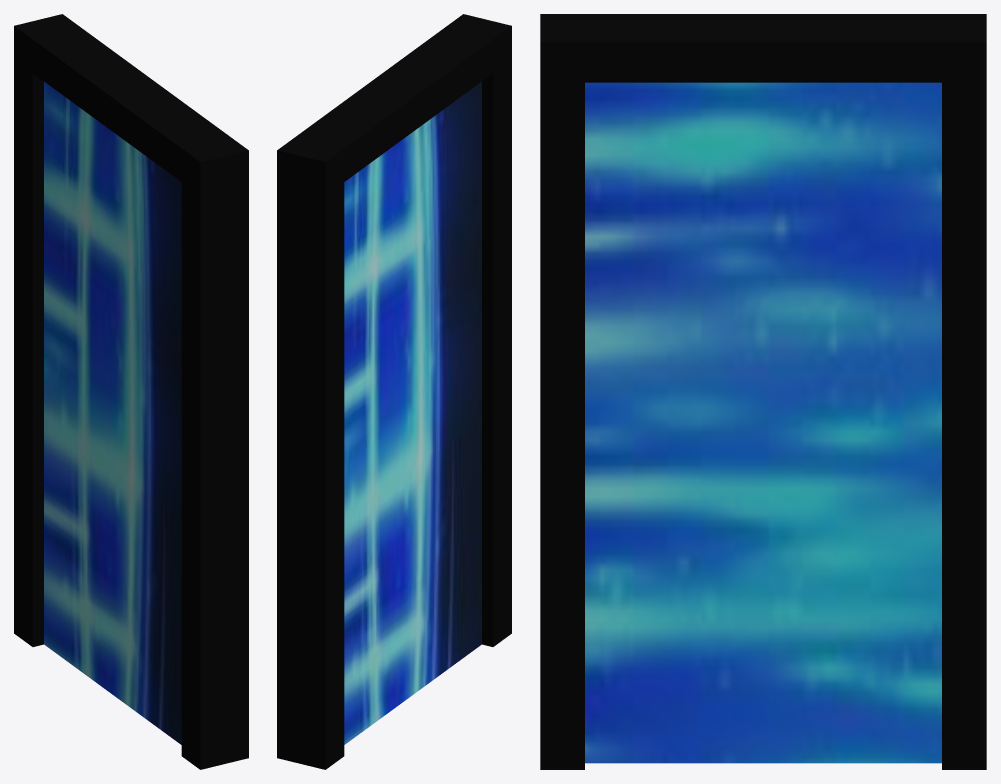
The model's file is TeleportDoor.gltf.
The picture shows the model from 3 angles, left to right: view 1: azimuth 30°, elevation 25°; view 2: azimuth 150°, elevation 25°; view 3: azimuth 270°, elevation 25°; orthographic projection. The views are drawn at different scales.
Visible parts, largest first — view 1: Door, Frame; view 2: Door, Frame; view 3: Door, Frame.
Part boxes in pixels (x1,y1,x2,y2): Door: [44, 81, 181, 744]; Frame: [14, 14, 248, 769]; Door: [344, 81, 481, 744]; Frame: [277, 14, 511, 769]; Door: [585, 82, 941, 763]; Frame: [540, 14, 986, 769].
Bounding box in the file's own units: 0.15 × 1.8 × 1.
Materials: 2 (1 with a texture image).
